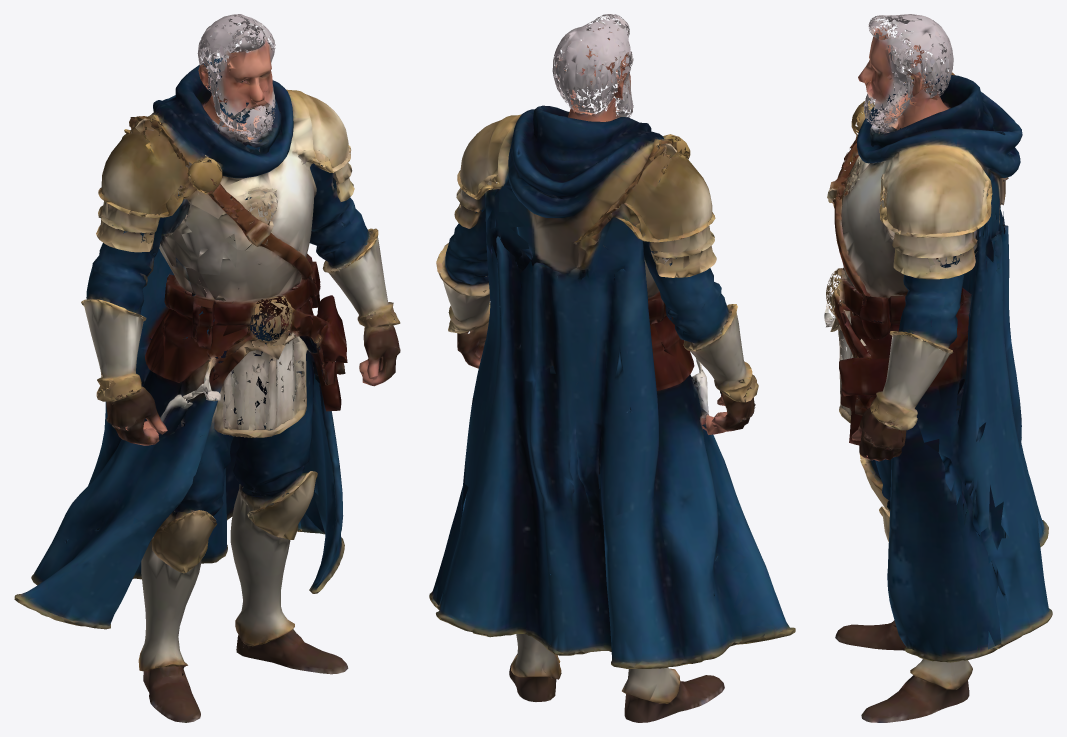
Rendered from fig_npc_vance.glb.
The picture shows the model from 3 angles, left to right: view 1: azimuth 30°, elevation 25°; view 2: azimuth 150°, elevation 25°; view 3: azimuth 270°, elevation 25°; orthographic projection.
Parts seen in each view (by area): view 1: geometry_0; view 2: geometry_0; view 3: geometry_0.
Part boxes in pixels (x1=…): geometry_0: x1=14, y1=14, x2=400, y2=722; geometry_0: x1=429, y1=14, x2=795, y2=722; geometry_0: x1=824, y1=14, x2=1052, y2=722.
Bounding box in the file's own units: 0.5514 × 0.96 × 0.301.
1 material, 1 textured.
